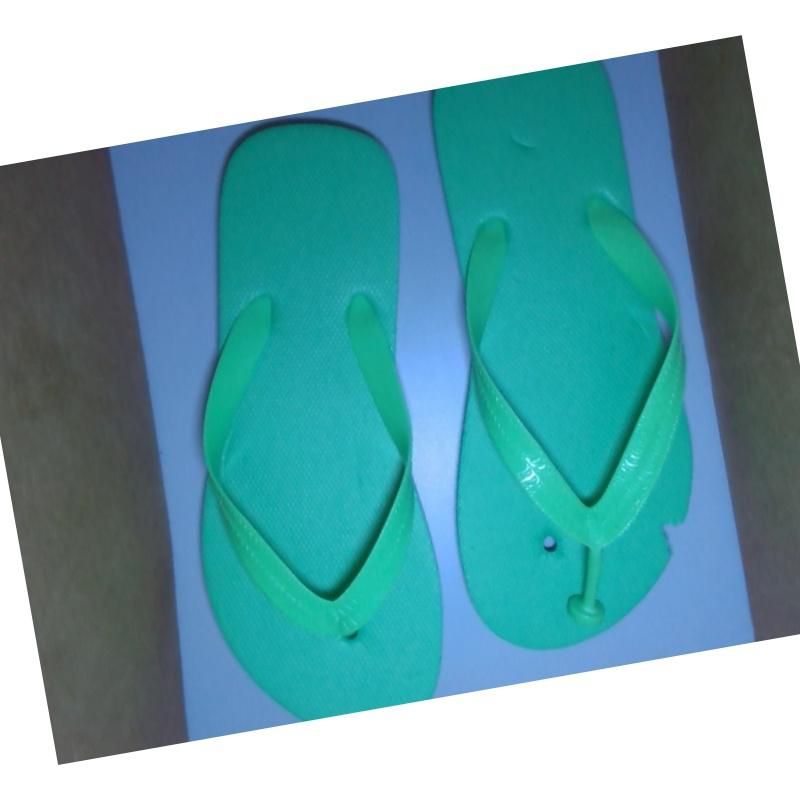chipped: (653, 507, 698, 566)
detached: (561, 579, 612, 636)
